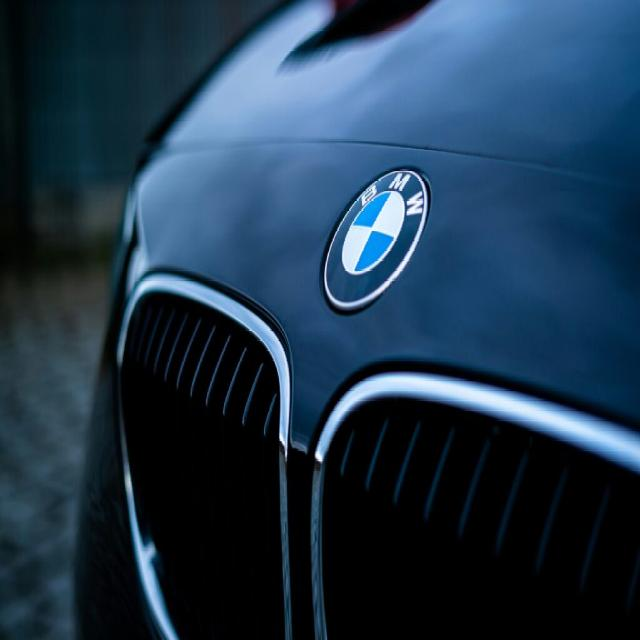bmw: (317, 161, 433, 318)
